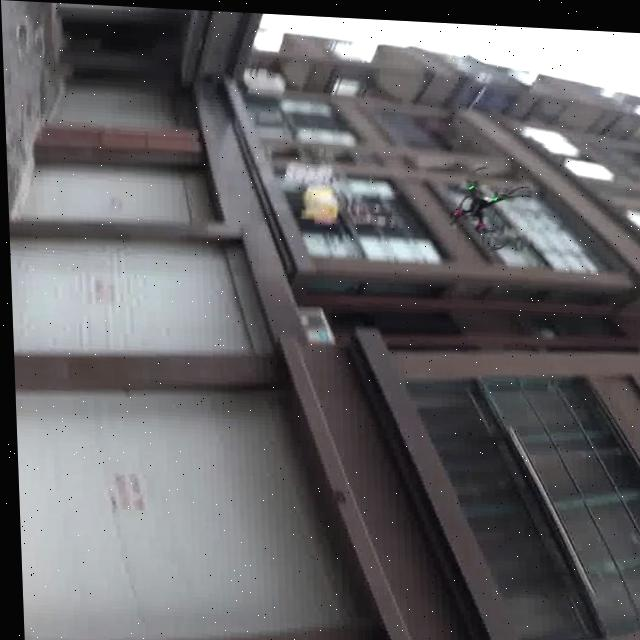drone: (430, 150, 550, 247)
